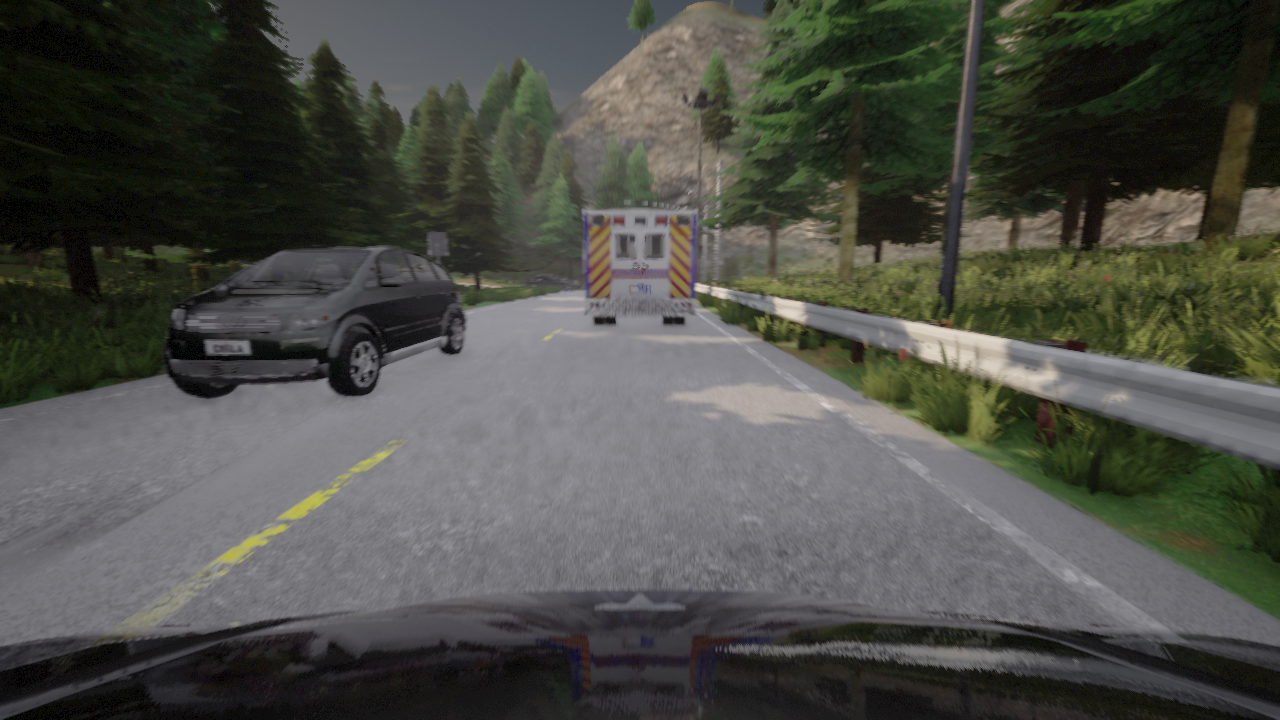cyclist: (0, 588, 1279, 719), (164, 245, 466, 396), (583, 210, 696, 324), (522, 274, 581, 290)
